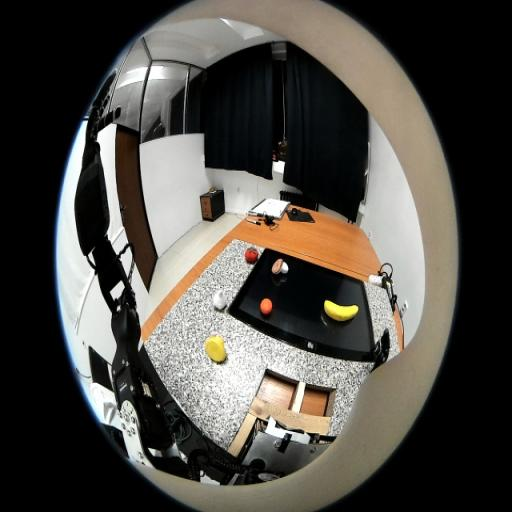Banana: (324, 300, 359, 322)
Duck: (206, 335, 226, 363)
LeftHand: (86, 108, 100, 142)
Mushroom: (271, 258, 289, 274)
Onion: (214, 291, 227, 309)
Orange: (260, 297, 273, 315)
Tomato: (245, 246, 258, 264)
